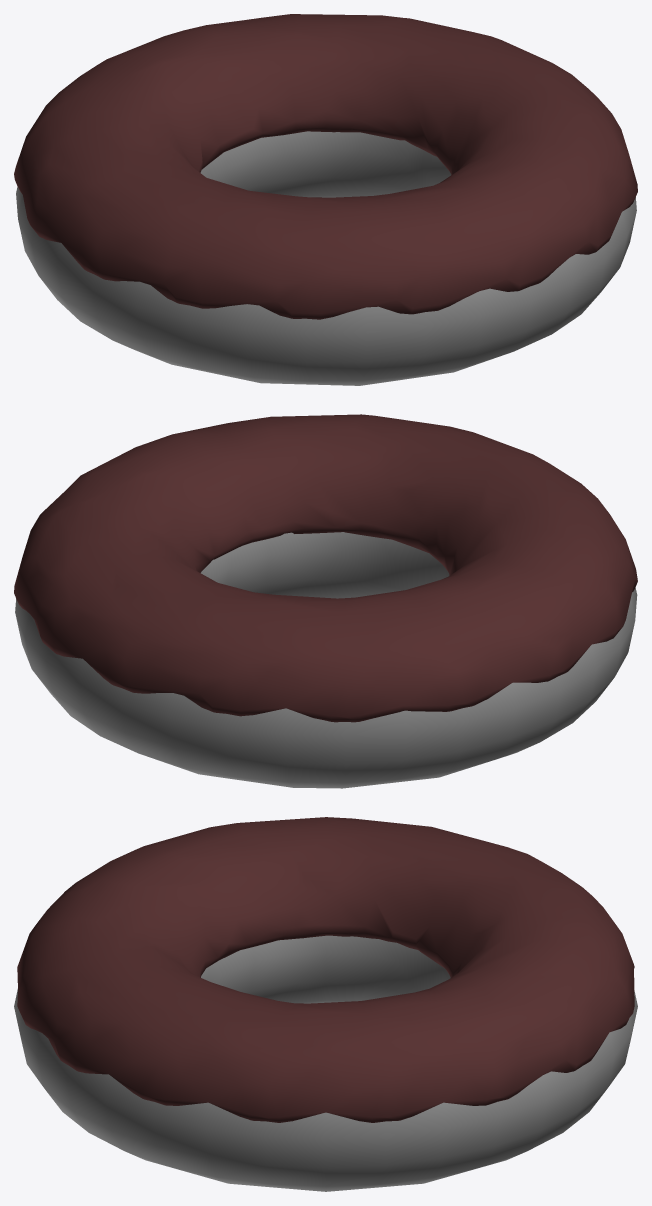
File: Donuts_Model.FBX
The picture shows the model from 3 angles, top to bottom: view 1: azimuth 30°, elevation 25°; view 2: azimuth 150°, elevation 25°; view 3: azimuth 270°, elevation 25°; orthographic projection.
Parts seen in each view (by area): view 1: Donuts_Material; view 2: Donuts_Material; view 3: Donuts_Material.
Boxes of the visible parts, x1,y1,x2,y2 form: Donuts_Material: (14,14,637,385); Donuts_Material: (14,414,637,788); Donuts_Material: (14,817,637,1191).
Bounding box in the file's own units: 15.24 × 4.61 × 15.24.
